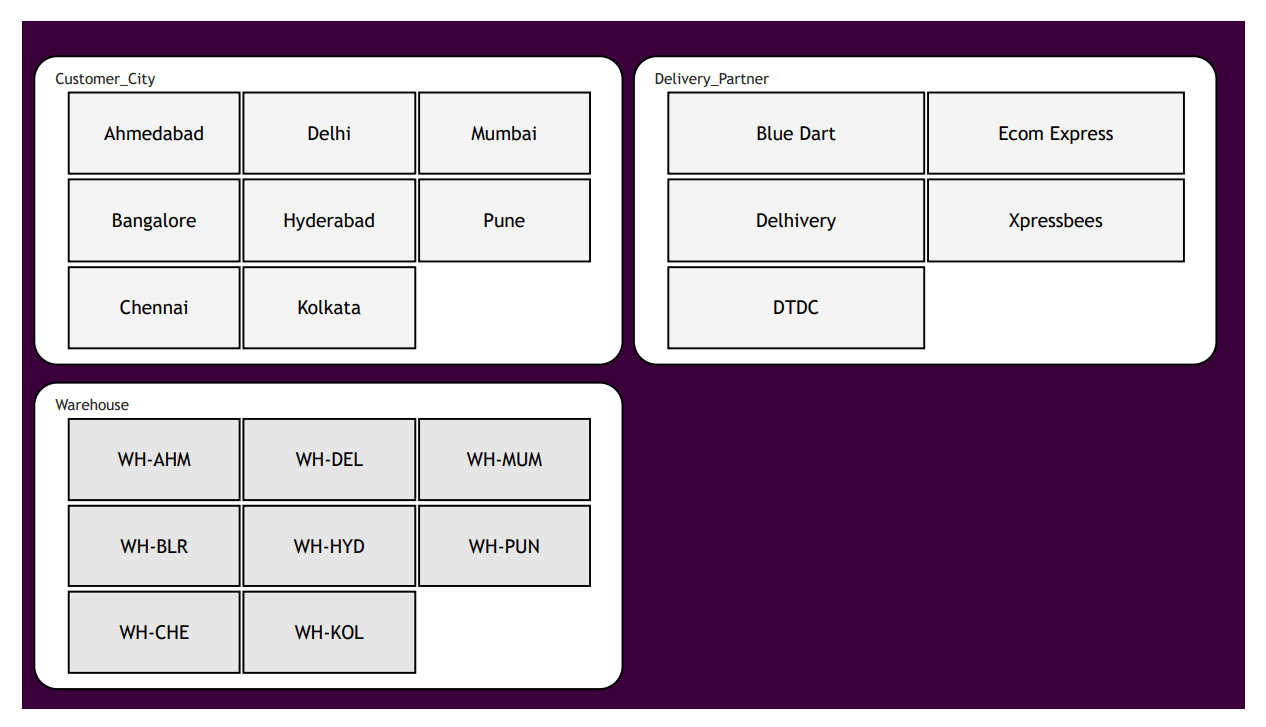

This screenshot's page, from the dashboard's own definition file:
{"tool":"powerbi","page":{"name":"Page 3","canvas":[1280,720],"ordinal":2},"visuals":[{"type":"slicer","fields":{"Values":["Supply_Chain_Logistics_Analytics_10000Rows.Customer_City"]},"box":[11.7,35,618.3,325],"z":0},{"type":"slicer","fields":{"Values":["Supply_Chain_Logistics_Analytics_10000Rows.Warehouse"]},"box":[11.7,376.7,618.3,323.3],"z":1000},{"type":"slicer","fields":{"Values":["Supply_Chain_Logistics_Analytics_10000Rows.Delivery_Partner"]},"box":[640,35,611.7,325],"z":2000}]}

Visuals, with their boxes in screenshot pixels (x1, y1, x2, y2), scaled from the page's 1280x720 canvas onto the 1266x727 screenshot:
slicer - Supply_Chain_Logistics_Analytics_10000Rows.Customer_City: (12, 35, 623, 364)
slicer - Supply_Chain_Logistics_Analytics_10000Rows.Warehouse: (12, 380, 623, 707)
slicer - Supply_Chain_Logistics_Analytics_10000Rows.Delivery_Partner: (633, 35, 1238, 364)
